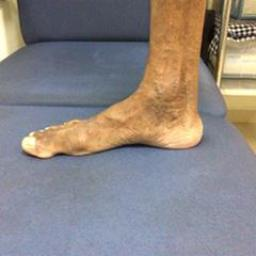Medial View -Right Foot-: (15, 61, 209, 168)
